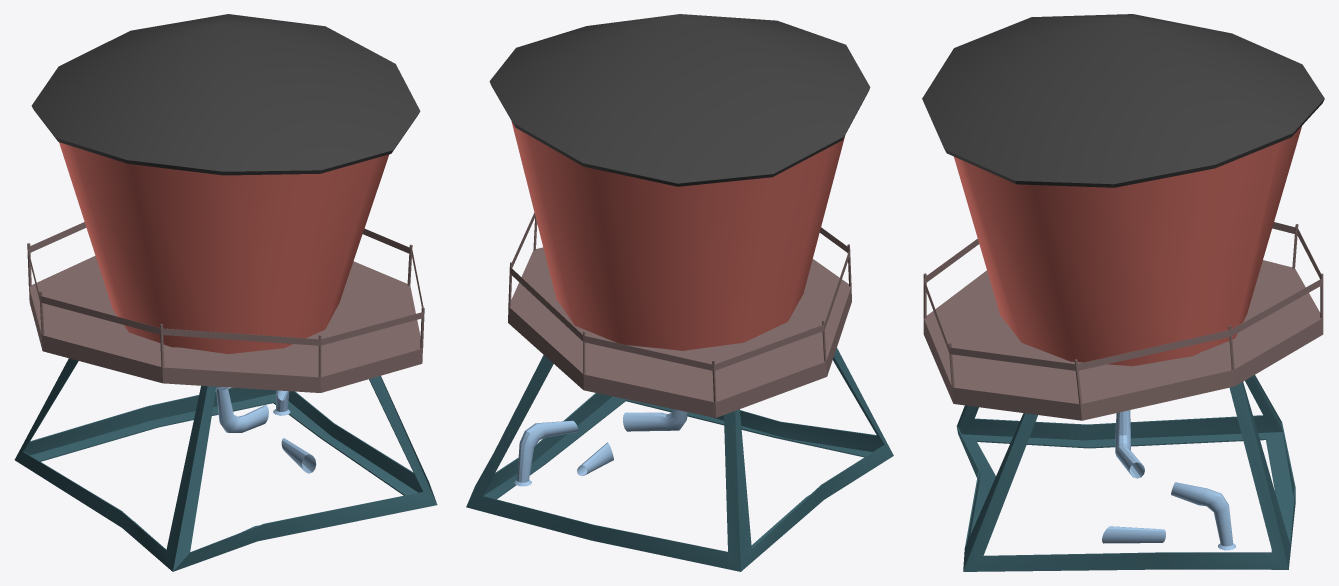
File: Water_Tank.fbx
The picture shows the model from 3 angles, left to right: view 1: azimuth 30°, elevation 25°; view 2: azimuth 150°, elevation 25°; view 3: azimuth 270°, elevation 25°; orthographic projection. The views are drawn at different scales.
Visible parts, largest first — view 1: Cylinder.002, Cylinder.001, Cube.001, Cube, Cylinder, Cylinder.003; view 2: Cylinder.002, Cylinder.001, Cube.001, Cube, Cylinder, Cylinder.003; view 3: Cylinder.002, Cylinder.001, Cube.001, Cube, Cylinder, Cylinder.003.
Part boxes in pixels (x1,y1,x2,y2): Cylinder.002: (31,14,420,175); Cylinder.001: (59,142,389,354); Cube.001: (27,222,424,392); Cube: (14,358,437,571); Cylinder: (216,386,290,432); Cylinder.003: (281,438,316,473); Cylinder.002: (489,14,870,186); Cylinder.001: (511,121,845,350); Cube.001: (508,212,851,417); Cube: (466,348,893,571); Cylinder: (514,409,687,486); Cylinder.003: (577,442,613,475); Cylinder.002: (922,14,1324,187); Cylinder.001: (954,126,1301,366); Cube.001: (923,222,1323,420); Cube: (956,375,1295,571); Cylinder: (1115,410,1235,550); Cylinder.003: (1102,526,1165,543).
Size of the model in its own units: 255 by 340 by 255.
